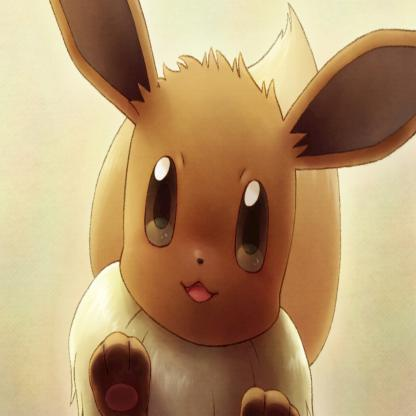Eevee: (25, 1, 416, 416)
